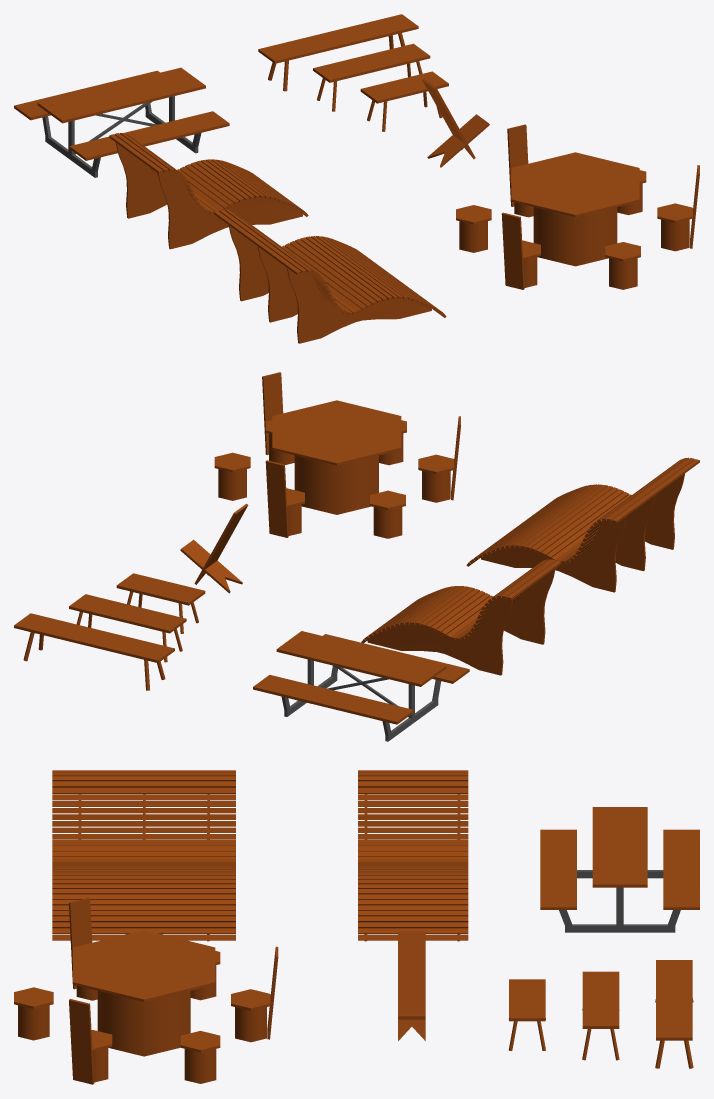
The model's file is furnitures.FBX.
3 views of the same model, one above another, from view 1: azimuth 30°, elevation 25°; view 2: azimuth 150°, elevation 25°; view 3: azimuth 270°, elevation 25° (orthographic). The views are drawn at different scales.
Visible parts, largest first — view 1: Tisch, Seite (×2), Tischplatte, Seite002, Sitzfläche003, Sitzfläche001, Sitzfläche002, Seite004, Seite003, Lehne (×2), Fuß (×2), Lehne002 (+12 smaller); view 2: Tisch, Seite (×2), Tischplatte, Seite003, Sitzfläche, Sitzfläche003, Lehne (×2), Sitzfläche002, Seite002, Seite004, Fuß (×2), Sitzfläche004 (+10 smaller); view 3: Latte (×26), Tisch, Tischplatte, Sitzfläche001, Sitzfläche, Sitzfläche003, Lehne, Sitzfläche002, Lehne001, Hocker002, Hocker, Hocker004 (+37 smaller).
Boxes of the visible parts, box(x1,y1,x2,y2) form: Tisch: box(511, 152, 639, 266); Seite (×2): box(115, 142, 302, 249); Tischplatte: box(37, 67, 205, 123); Seite002: box(286, 268, 431, 343); Sitzfläche003: box(258, 14, 418, 63); Sitzfläche001: box(69, 111, 229, 160); Sitzfläche002: box(313, 43, 430, 82); Seite004: box(257, 246, 297, 322); Seite003: box(228, 225, 268, 301); Lehne (×2): box(422, 78, 528, 206); Fuß (×2): box(42, 96, 201, 177); Lehne002: box(501, 212, 524, 289); Tisch: box(272, 400, 401, 514); Seite (×2): box(367, 568, 555, 675); Tischplatte: box(276, 631, 445, 686); Seite003: box(481, 516, 626, 592); Sitzfläche: box(253, 674, 413, 724); Sitzfläche003: box(14, 613, 174, 662); Lehne (×2): box(194, 460, 288, 584); Sitzfläche002: box(69, 594, 186, 633); Seite002: box(645, 473, 684, 549); Seite004: box(615, 495, 655, 571); Fuß (×2): box(281, 659, 441, 741); Sitzfläche004: box(116, 573, 205, 605); Latte (×26): box(358, 772, 468, 940); Tisch: box(73, 930, 215, 1056); Tischplatte: box(592, 807, 647, 887); Sitzfläche001: box(540, 829, 576, 909); Sitzfläche: box(663, 829, 699, 909); Sitzfläche003: box(656, 960, 692, 1040); Lehne: box(398, 931, 425, 1040); Sitzfläche002: box(582, 971, 619, 1028); Lehne001: box(69, 999, 94, 1084); Hocker002: box(180, 1031, 220, 1083); Hocker: box(14, 987, 53, 1040); Hocker004: box(231, 989, 270, 1042).
Size of the model in its own units: 5.84 by 1.11 by 7.47.
